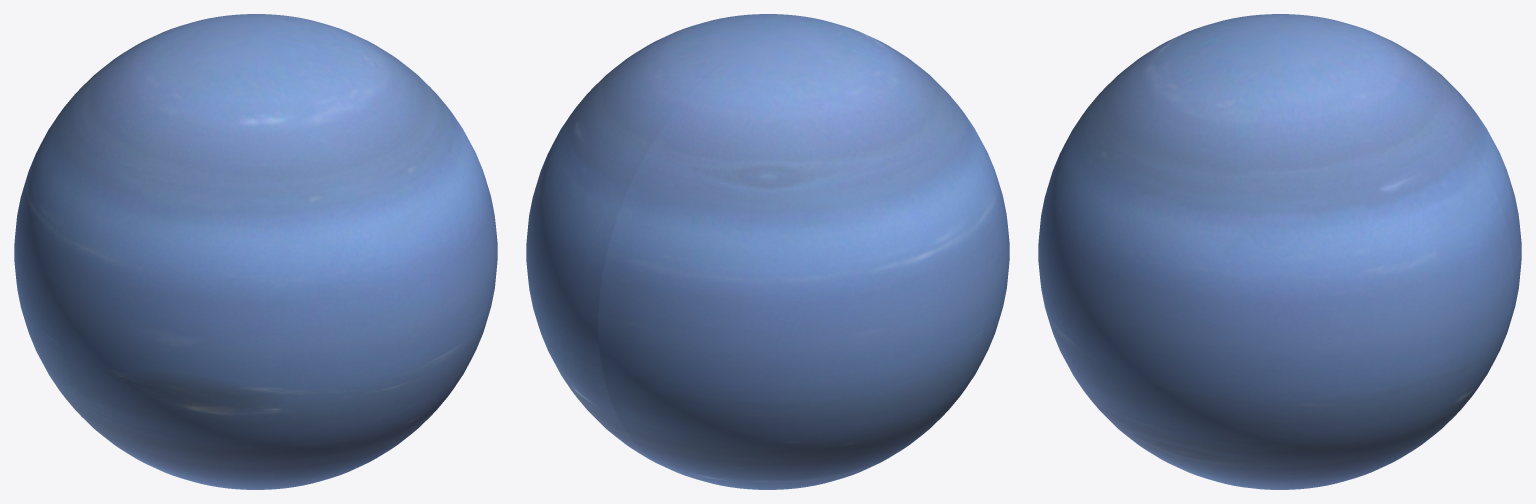
File: neptune.glb
3 renders of one model, left to right at view 1: azimuth 30°, elevation 25°; view 2: azimuth 150°, elevation 25°; view 3: azimuth 270°, elevation 25°, orthographic.
Visible parts, largest first — view 1: Neptune; view 2: Neptune; view 3: Neptune.
Boxes of the visible parts, x1,y1,x2,y2 form: Neptune: [14, 14, 497, 489]; Neptune: [526, 14, 1009, 489]; Neptune: [1038, 14, 1521, 489].
Size of the model in its own units: 1000 by 983 by 1000.
1 material, 1 textured.
